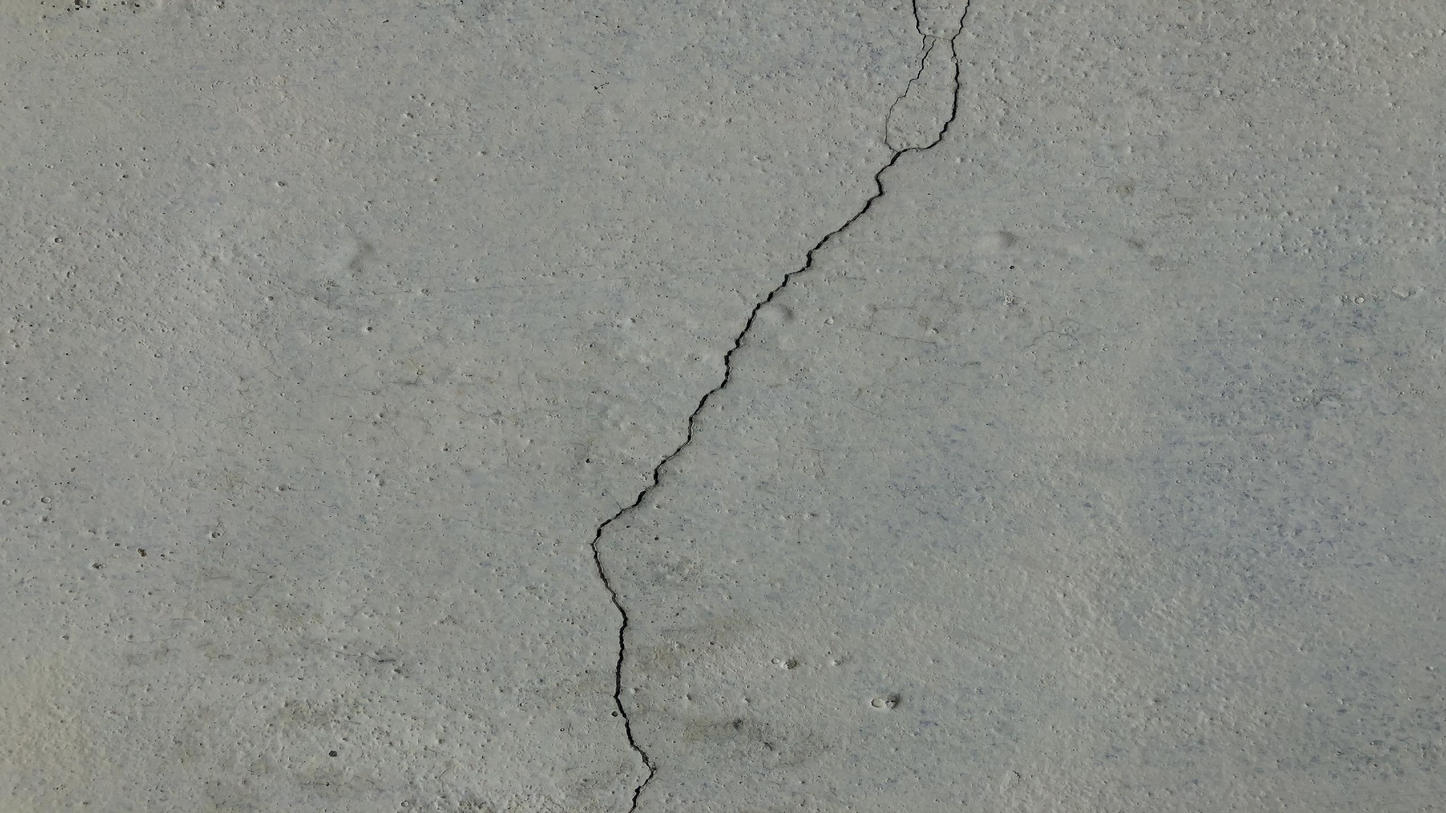crack: (589, 1, 971, 810), (885, 0, 927, 150)
